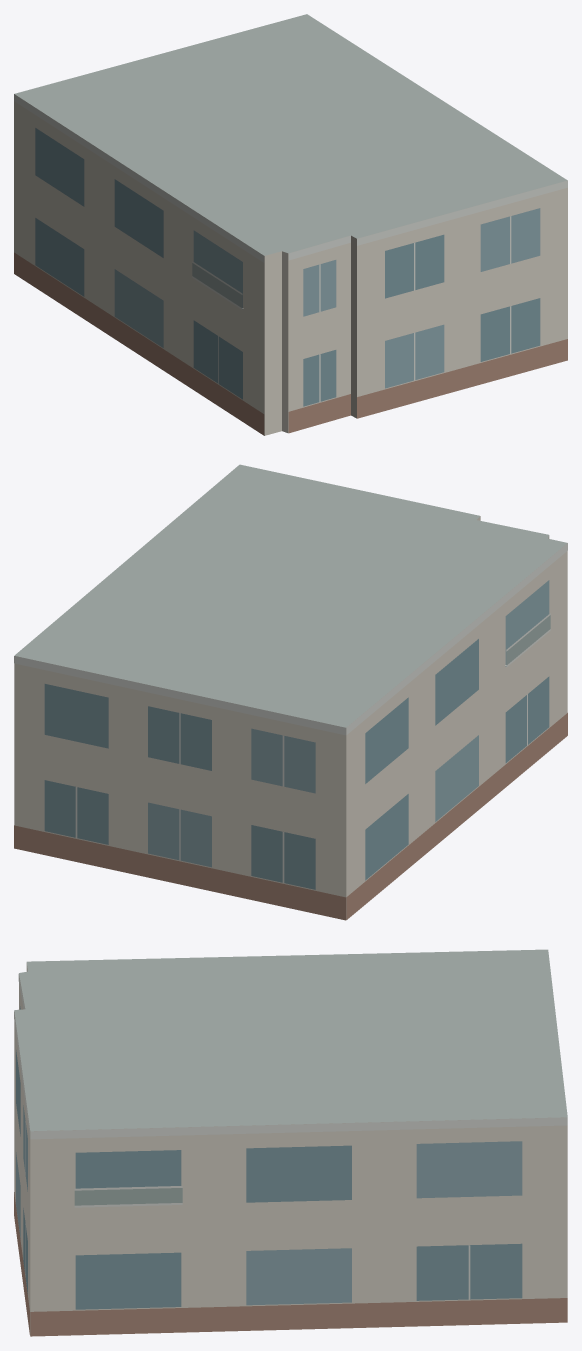
File: survey-upis-32696389.glb
The picture shows the model from 3 angles, top to bottom: view 1: azimuth 30°, elevation 25°; view 2: azimuth 150°, elevation 25°; view 3: azimuth 270°, elevation 25°; orthographic projection. The views are drawn at different scales.
Visible parts, largest first — view 1: survey-upis-32696389.tmp; view 2: survey-upis-32696389.tmp; view 3: survey-upis-32696389.tmp.
Boxes of the visible parts, bbox=[...] form: survey-upis-32696389.tmp: bbox=[14, 14, 567, 435]; survey-upis-32696389.tmp: bbox=[14, 464, 567, 920]; survey-upis-32696389.tmp: bbox=[14, 949, 567, 1336].
Bounding box in the file's own units: 11.6 × 6.1 × 14.93.
